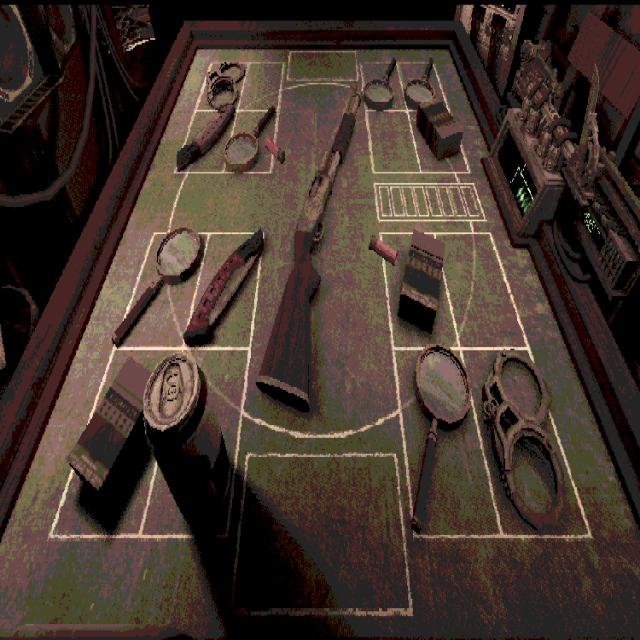ally: (3, 207, 639, 553)
can: (145, 357, 233, 544)
cigar: (68, 358, 144, 497), (397, 231, 444, 331), (416, 100, 462, 159)
doubledamage: (184, 231, 263, 342)
emptyspace: (435, 228, 529, 349)
enemyspace: (132, 32, 507, 218)
gun: (254, 91, 358, 404)
handcuff: (482, 353, 563, 530)
lens: (410, 345, 469, 533), (113, 228, 201, 345), (176, 104, 239, 170), (224, 105, 275, 172), (404, 49, 437, 107), (364, 57, 396, 110)
